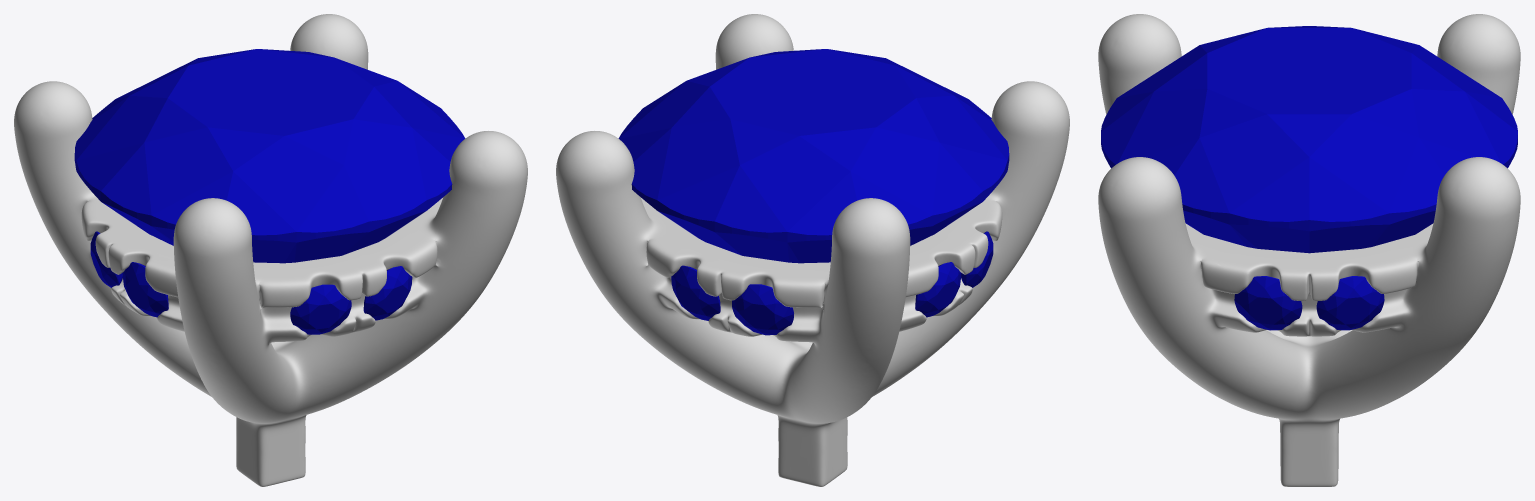
The model's file is Round.glb.
3 renders of one model, left to right at view 1: azimuth 30°, elevation 25°; view 2: azimuth 150°, elevation 25°; view 3: azimuth 270°, elevation 25°, orthographic. The views are drawn at different scales.
Parts seen in each view (by area): view 1: /GSMOD388300-HIDDEN HALO_ROUND_IJ.3dm, Diamond_Round (×5); view 2: /GSMOD388300-HIDDEN HALO_ROUND_IJ.3dm, Diamond_Round (×5); view 3: /GSMOD388300-HIDDEN HALO_ROUND_IJ.3dm, Diamond_Round (×3).
Boxes of the visible parts, x1=… form: /GSMOD388300-HIDDEN HALO_ROUND_IJ.3dm: x1=14, y1=14, x2=527, y2=486; Diamond_Round (×5): x1=74, y1=49, x2=465, y2=334; /GSMOD388300-HIDDEN HALO_ROUND_IJ.3dm: x1=556, y1=14, x2=1069, y2=486; Diamond_Round (×5): x1=618, y1=49, x2=1009, y2=335; /GSMOD388300-HIDDEN HALO_ROUND_IJ.3dm: x1=1098, y1=14, x2=1520, y2=486; Diamond_Round (×3): x1=1101, y1=26, x2=1517, y2=330.
Bounding box in the file's own units: 7.6 × 8.05 × 7.61.
